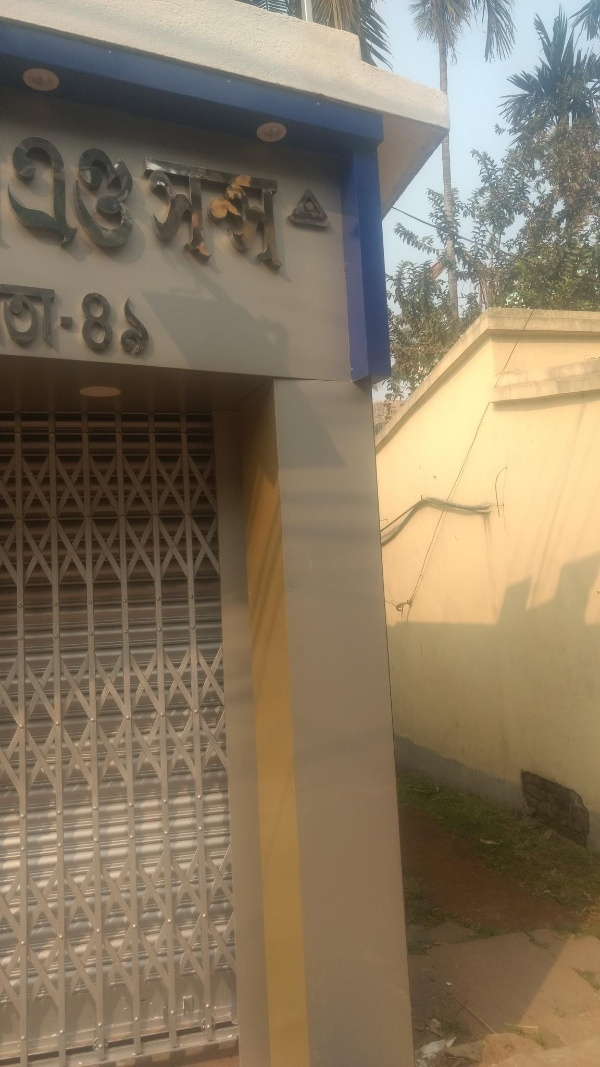text: (17, 130, 32, 280), (33, 130, 48, 280), (49, 130, 64, 280), (65, 130, 80, 280), (81, 130, 96, 280), (97, 130, 112, 280), (113, 130, 128, 280), (145, 156, 160, 274), (161, 156, 176, 274), (177, 156, 192, 274), (193, 156, 208, 274), (209, 156, 224, 274), (225, 156, 240, 274), (241, 156, 256, 274), (257, 156, 272, 274), (129, 130, 140, 280), (273, 156, 283, 274), (81, 290, 96, 358), (97, 290, 112, 358), (113, 290, 128, 358), (129, 290, 144, 358), (1, 283, 16, 350), (17, 283, 32, 350), (33, 283, 48, 350), (49, 283, 64, 350), (145, 290, 157, 358), (65, 283, 74, 350), (141, 156, 144, 274)
